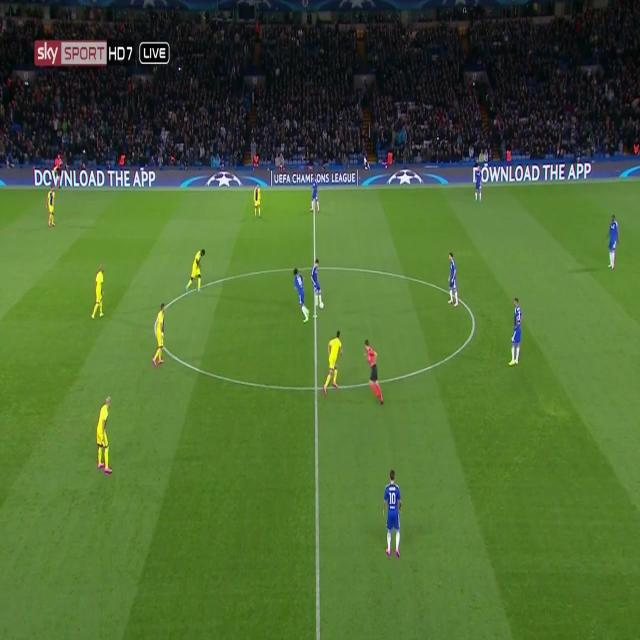Ball: (319, 300, 324, 311)
Player: (381, 469, 404, 563), (320, 329, 345, 400), (95, 396, 112, 477), (148, 300, 167, 372), (508, 295, 525, 372), (184, 246, 209, 297), (89, 263, 107, 324), (292, 266, 310, 325), (605, 212, 620, 274), (310, 256, 324, 312), (447, 250, 459, 310), (44, 184, 57, 231), (471, 163, 483, 207), (251, 182, 263, 222), (309, 178, 320, 218)
Referee: (364, 340, 386, 407)
